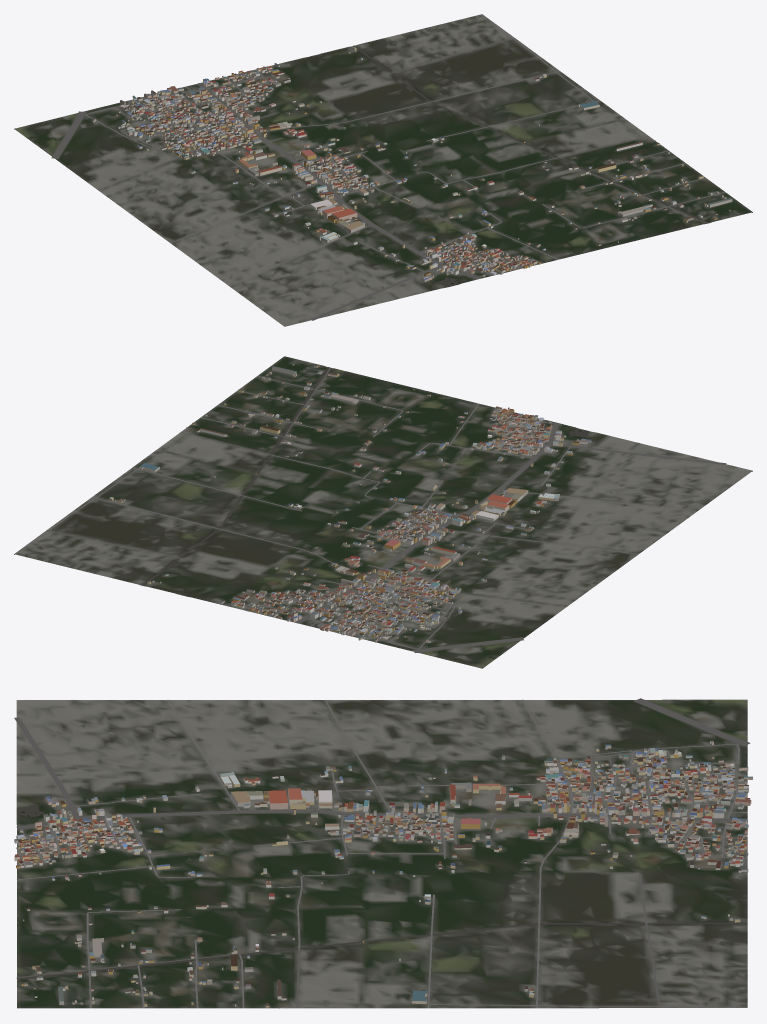
3 views of the same model, one above another, from view 1: azimuth 30°, elevation 25°; view 2: azimuth 150°, elevation 25°; view 3: azimuth 270°, elevation 25° (orthographic). The views are drawn at different scales.
Visible parts, largest first — view 1: ground, buildings, roads, water; view 2: ground, buildings, roads, water; view 3: ground, buildings, roads, water.
Boxes of the visible parts, <box> form: ground: <box>14,14,752,326</box>; buildings: <box>92,46,732,281</box>; roads: <box>51,14,725,320</box>; water: <box>311,45,708,286</box>; ground: <box>14,356,752,668</box>; buildings: <box>109,364,591,642</box>; roads: <box>14,367,726,652</box>; water: <box>142,367,591,595</box>; ground: <box>16,699,747,1008</box>; buildings: <box>14,740,752,1007</box>; roads: <box>14,698,750,1008</box>; water: <box>16,802,747,979</box>.
Bounding box in the file's own units: 1410 × 24.58 × 1418.
